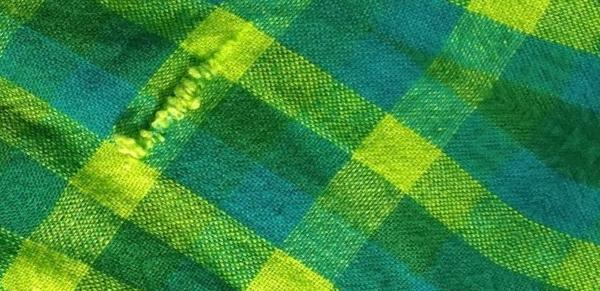knot: (109, 29, 261, 168)
